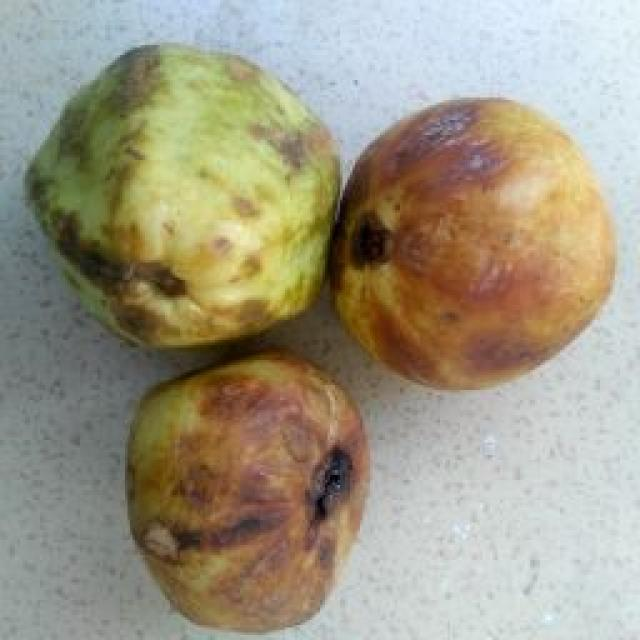Bad_Guava: (26, 45, 339, 347), (331, 99, 615, 388), (128, 351, 369, 631)
